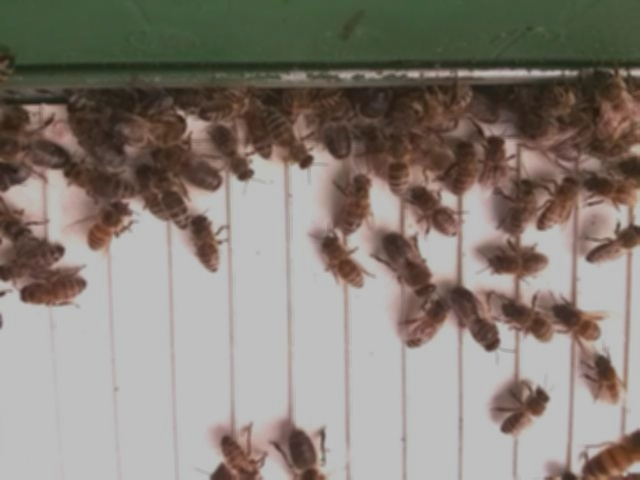Drone: (378, 232, 438, 300), (149, 142, 228, 193), (450, 285, 502, 357), (0, 128, 74, 177)
Worker: (0, 239, 70, 286), (63, 165, 138, 205), (581, 221, 640, 270), (270, 110, 315, 173), (496, 386, 552, 436), (320, 234, 366, 293), (500, 297, 556, 345), (536, 173, 581, 232), (410, 189, 461, 240), (402, 298, 449, 352), (19, 273, 91, 308), (216, 125, 257, 186), (578, 171, 640, 210), (551, 301, 605, 345), (502, 176, 539, 240), (190, 212, 226, 277), (486, 246, 552, 281), (86, 202, 128, 257), (154, 169, 190, 233), (338, 173, 372, 238), (482, 130, 512, 203), (385, 125, 413, 201), (446, 137, 478, 200), (592, 353, 626, 410)
